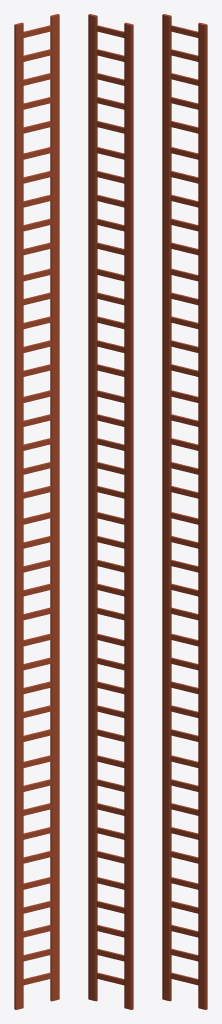
The picture shows the model from 3 angles, left to right: view 1: azimuth 30°, elevation 25°; view 2: azimuth 150°, elevation 25°; view 3: azimuth 330°, elevation 25°; orthographic projection.
Parts seen in each view (by area): view 1: mergedBlocks; view 2: mergedBlocks; view 3: mergedBlocks.
Part boxes in pixels (bbox=[...]): mergedBlocks: bbox=[14, 14, 59, 1009]; mergedBlocks: bbox=[88, 14, 133, 1009]; mergedBlocks: bbox=[162, 14, 207, 1009].
Size of the model in its own units: 9.15 by 196 by 0.6.
